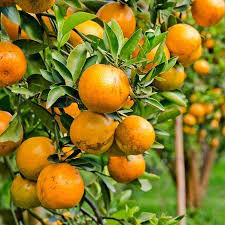orange: (78, 62, 131, 112), (13, 131, 58, 178), (40, 164, 83, 209), (72, 113, 112, 157), (95, 2, 141, 38), (162, 22, 203, 62), (116, 115, 158, 154), (110, 152, 147, 187), (192, 1, 221, 29)
